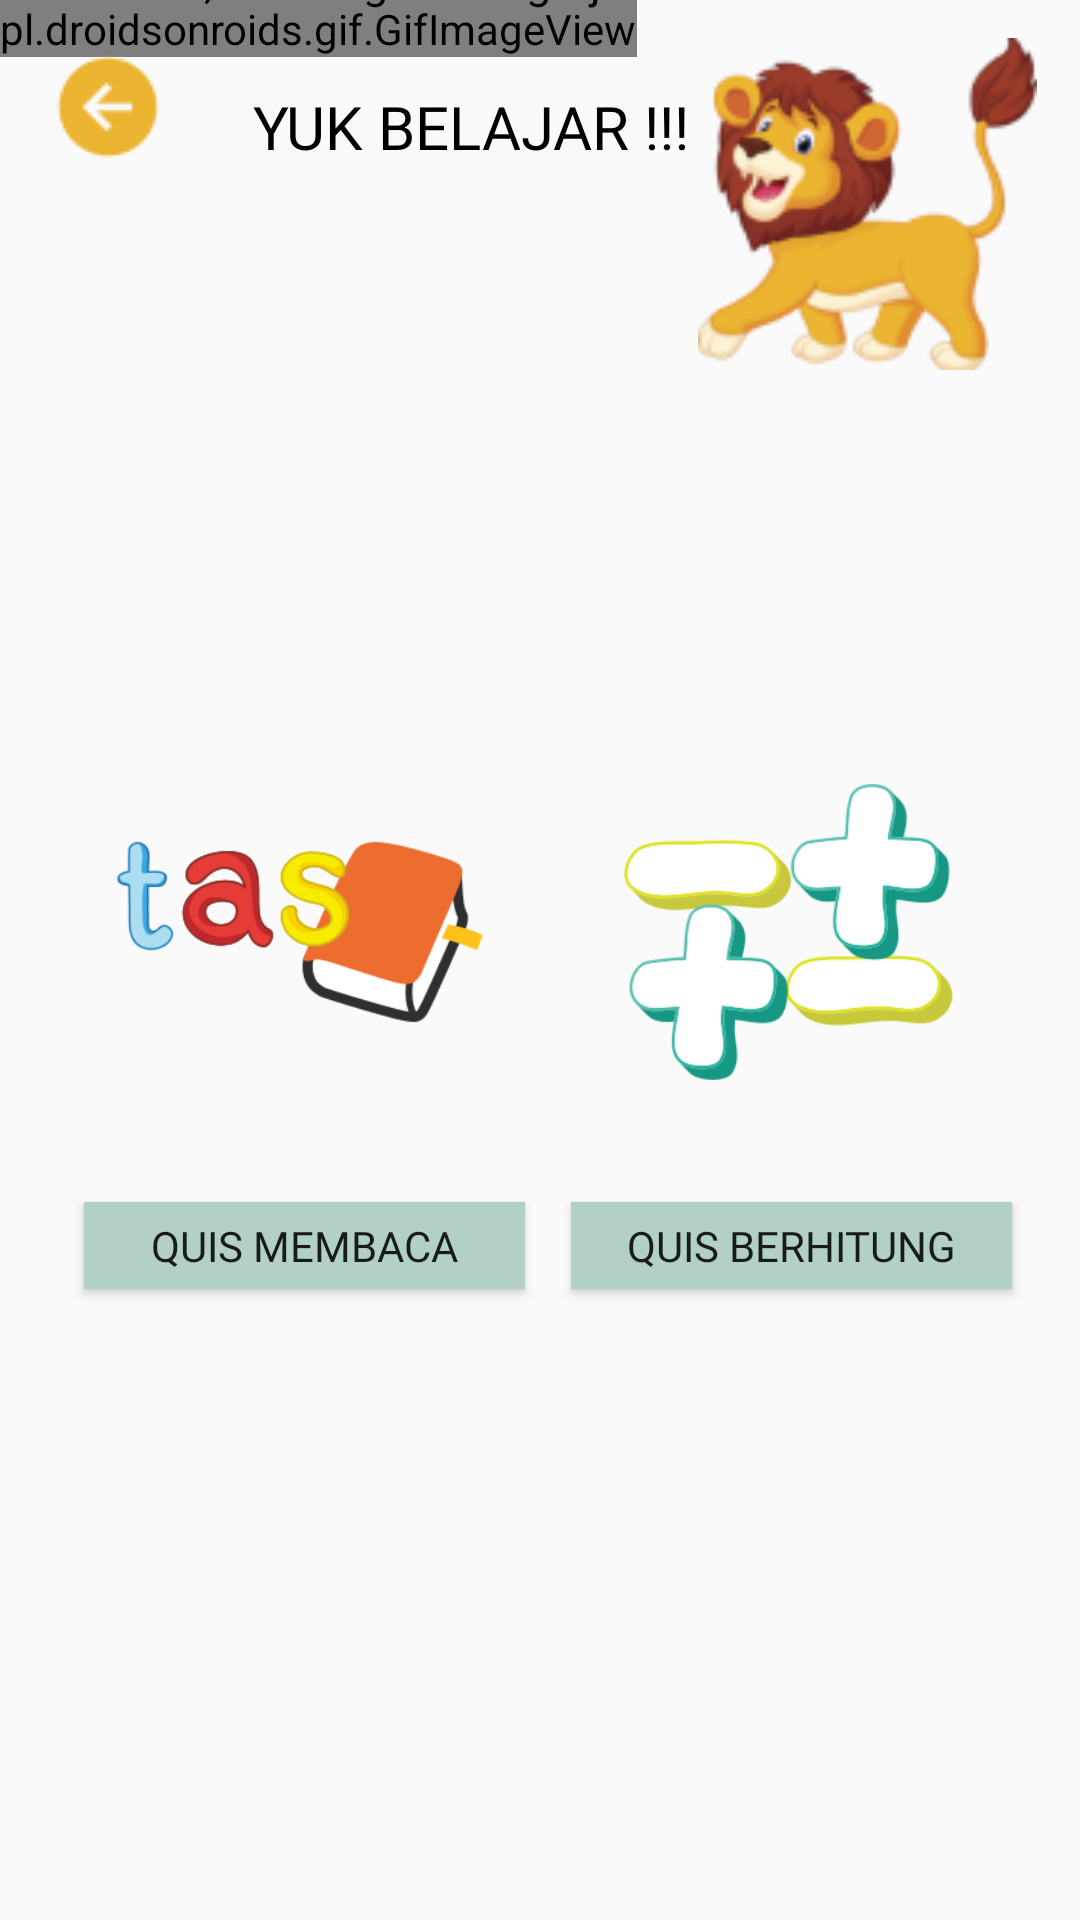

Screen size 1080px×1920px. Icon name, then its box in pixels as BBox(x1, y1, x2, y2):
keluar: BBox(48, 47, 168, 158)
quizberhitung: BBox(624, 784, 953, 1080)
singa: BBox(698, 38, 1037, 370)
